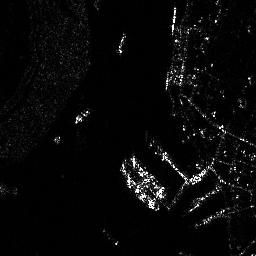ship: (116, 159, 162, 213), (124, 151, 165, 198), (74, 108, 91, 124), (117, 30, 126, 55)
